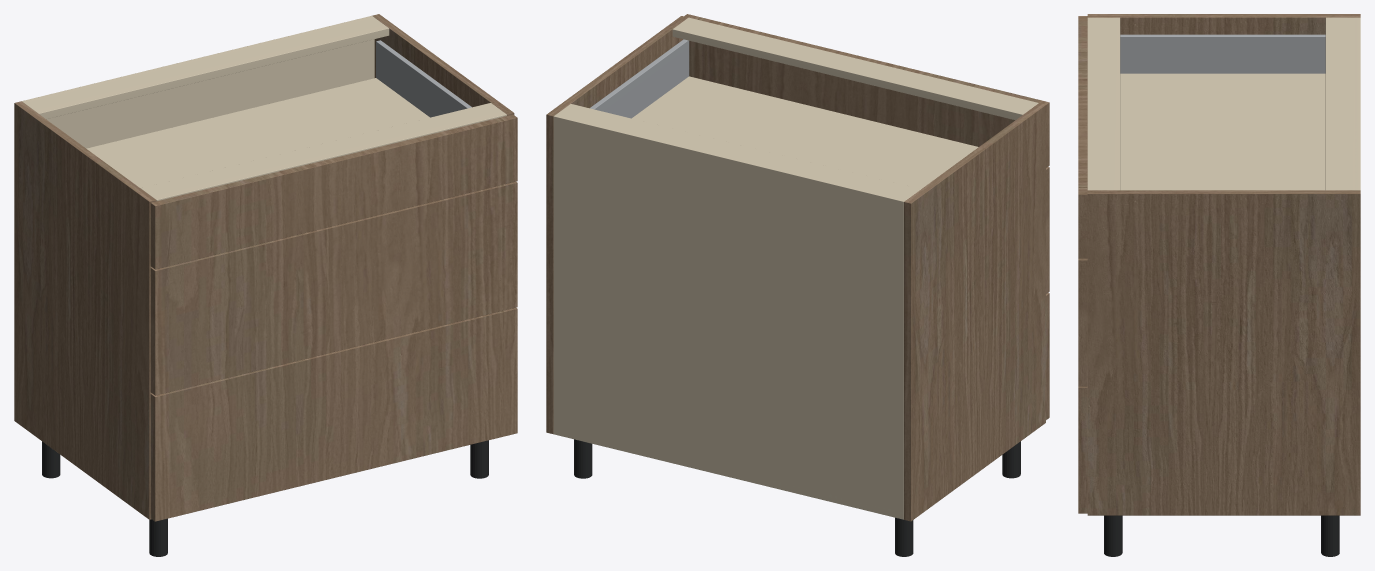
The model's file is oppein-ply-mnw-3db36.glb.
3 renders of one model, left to right at view 1: azimuth 30°, elevation 25°; view 2: azimuth 150°, elevation 25°; view 3: azimuth 270°, elevation 25°, orthographic.
Parts seen in each view (by area): view 1: Drawer front, Drawer front.001, Cabinet side, Drawer front.002, Drawer floor.002, Cabinet back, Top support rail, Top support rail.001, Drawer side.005, Cabinet side.001, Adjustable foot.001, Adjustable foot.003; view 2: Cabinet back, Cabinet side, Drawer floor.002, Drawer front.002, Top support rail.001, Cabinet side.001, Top support rail, Drawer side.005, Adjustable foot, Adjustable foot.002; view 3: Cabinet side.001, Drawer floor.002, Drawer side.004, Top support rail.001, Top support rail, Cabinet side, Drawer front.002, Drawer front.001, Drawer front, Cabinet back, Adjustable foot.003, Adjustable foot.002.
Boxes of the visible parts, <box> form: Drawer front: <box>150,307,517,521</box>; Drawer front.001: <box>150,181,517,395</box>; Cabinet side: <box>14,101,156,519</box>; Drawer front.002: <box>150,114,517,269</box>; Drawer floor.002: <box>86,78,429,188</box>; Cabinet back: <box>21,15,374,148</box>; Top support rail: <box>24,17,389,119</box>; Top support rail.001: <box>141,103,506,201</box>; Drawer side.005: <box>376,40,471,117</box>; Cabinet side.001: <box>372,14,514,115</box>; Adjustable foot.001: <box>149,518,167,556</box>; Adjustable foot.003: <box>470,440,488,478</box>; Cabinet back: <box>553,114,905,519</box>; Cabinet side: <box>904,103,1045,521</box>; Drawer floor.002: <box>632,76,978,188</box>; Drawer front.002: <box>684,14,1049,167</box>; Top support rail.001: <box>672,17,1038,120</box>; Cabinet side.001: <box>546,16,688,434</box>; Top support rail: <box>556,104,920,199</box>; Drawer side.005: <box>590,39,689,118</box>; Adjustable foot: <box>895,517,913,556</box>; Adjustable foot.002: <box>574,439,592,478</box>; Cabinet side.001: <box>1087,190,1360,515</box>; Drawer floor.002: <box>1120,73,1325,190</box>; Drawer side.004: <box>1120,34,1325,73</box>; Top support rail.001: <box>1087,17,1120,190</box>; Top support rail: <box>1325,17,1357,190</box>; Cabinet side: <box>1087,14,1360,34</box>; Drawer front.002: <box>1078,16,1087,258</box>; Drawer front.001: <box>1078,258,1087,386</box>; Drawer front: <box>1078,386,1087,513</box>; Cabinet back: <box>1355,17,1360,190</box>; Adjustable foot.003: <box>1104,515,1122,556</box>; Adjustable foot.002: <box>1321,515,1339,556</box>.
Bounding box in the file's own units: 0.9144 × 0.8763 × 0.6064.
Materials: 4 (1 with a texture image).
